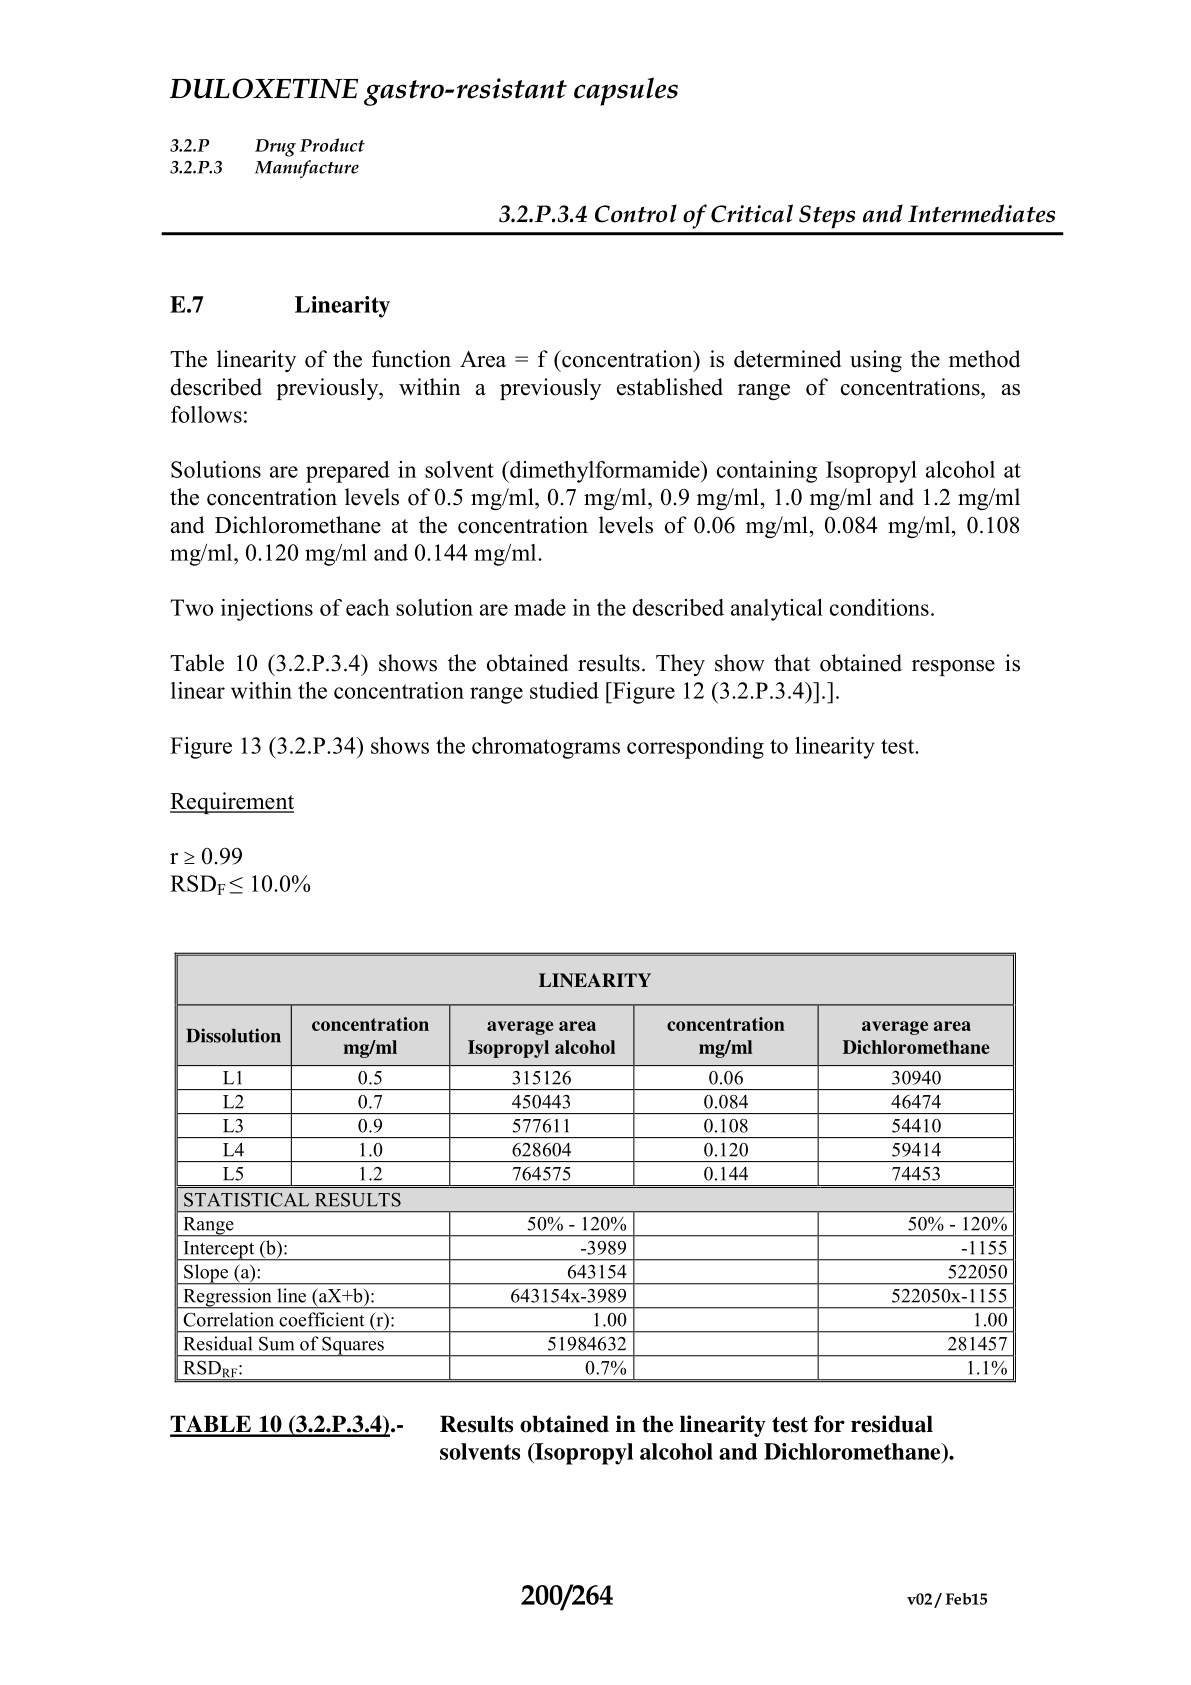merged_cells: (173, 951, 1016, 1383)
